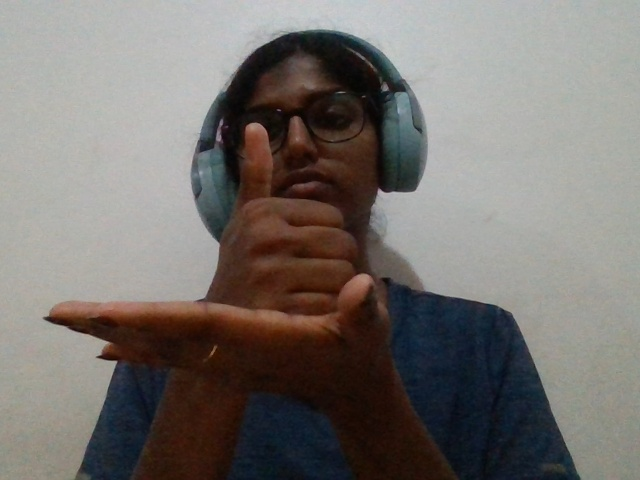Help: (4, 89, 497, 465)
